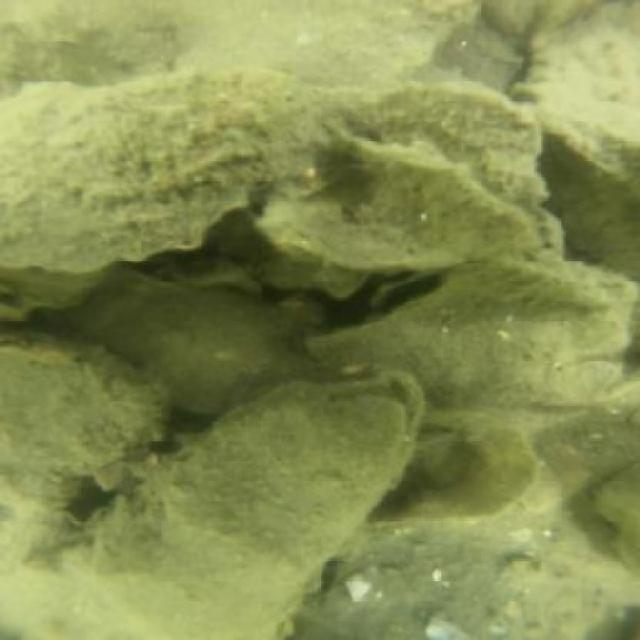Oyster- Indeterminate: (89, 378, 429, 640), (311, 255, 634, 428), (261, 137, 557, 281), (345, 83, 563, 256), (1, 325, 164, 530), (69, 278, 300, 409), (502, 4, 640, 207), (155, 0, 490, 82), (369, 270, 443, 317)
Oyster-Closed: (0, 70, 376, 277), (456, 263, 606, 310)
